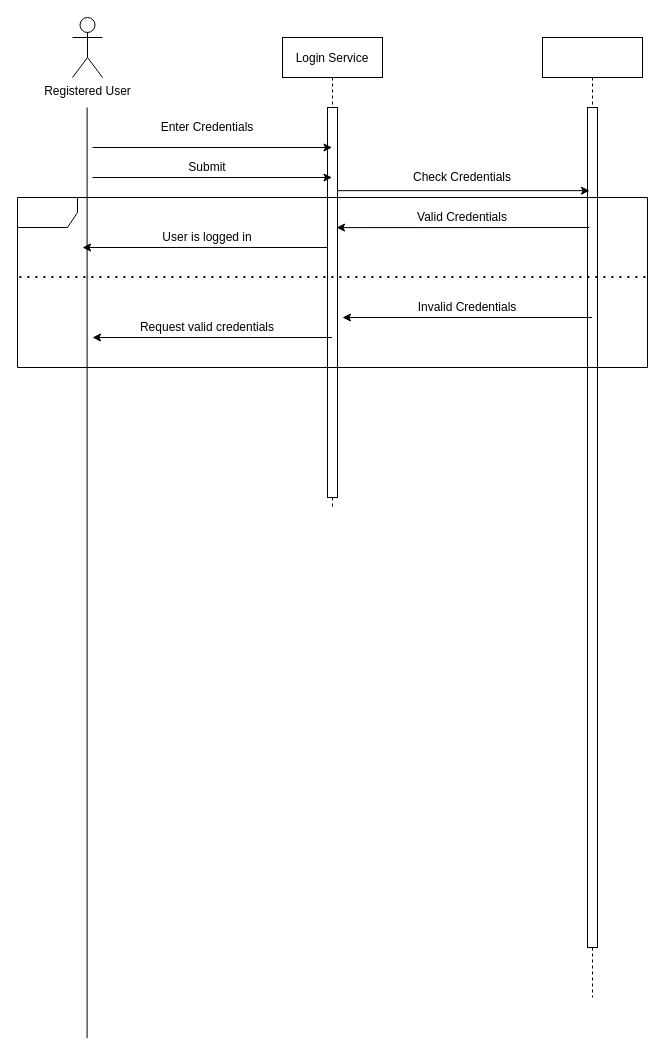
Image size: 668x1057. Some labels were removed from this diagram. Here are the shapes that lost their labels. From the top down, the box of each, then its label:
(16, 196, 648, 368): Alternative
(542, 36, 642, 998): Server
